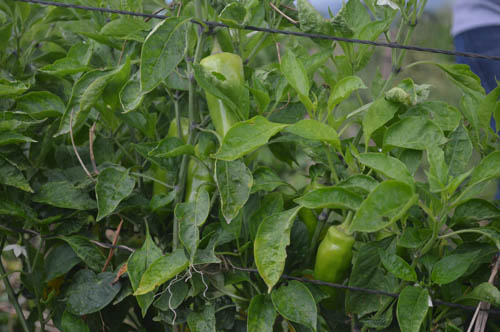ChiliPepper: (203, 53, 246, 143), (313, 226, 355, 306), (185, 149, 217, 218)
